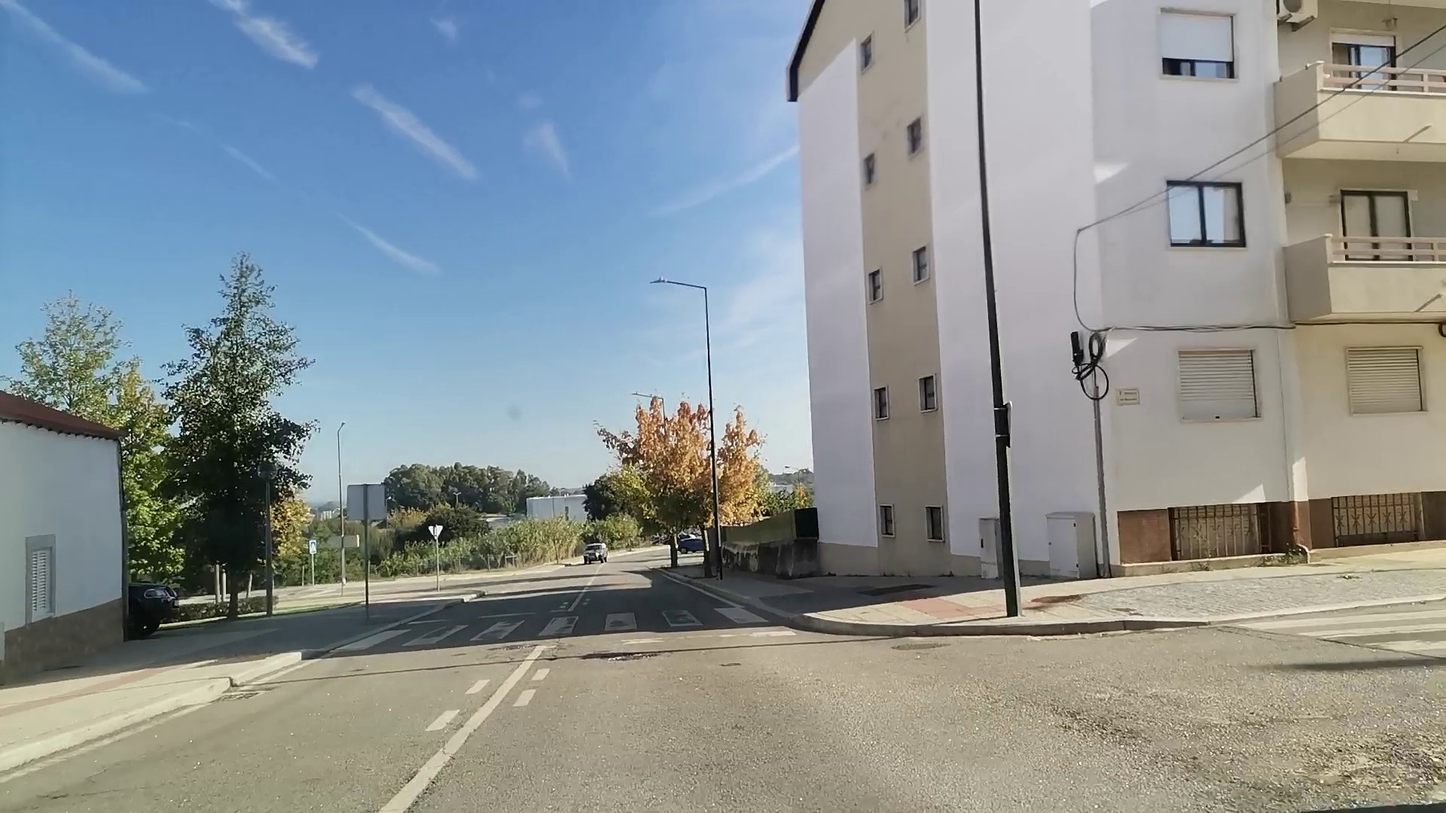Stairs: (331, 606, 766, 652)
